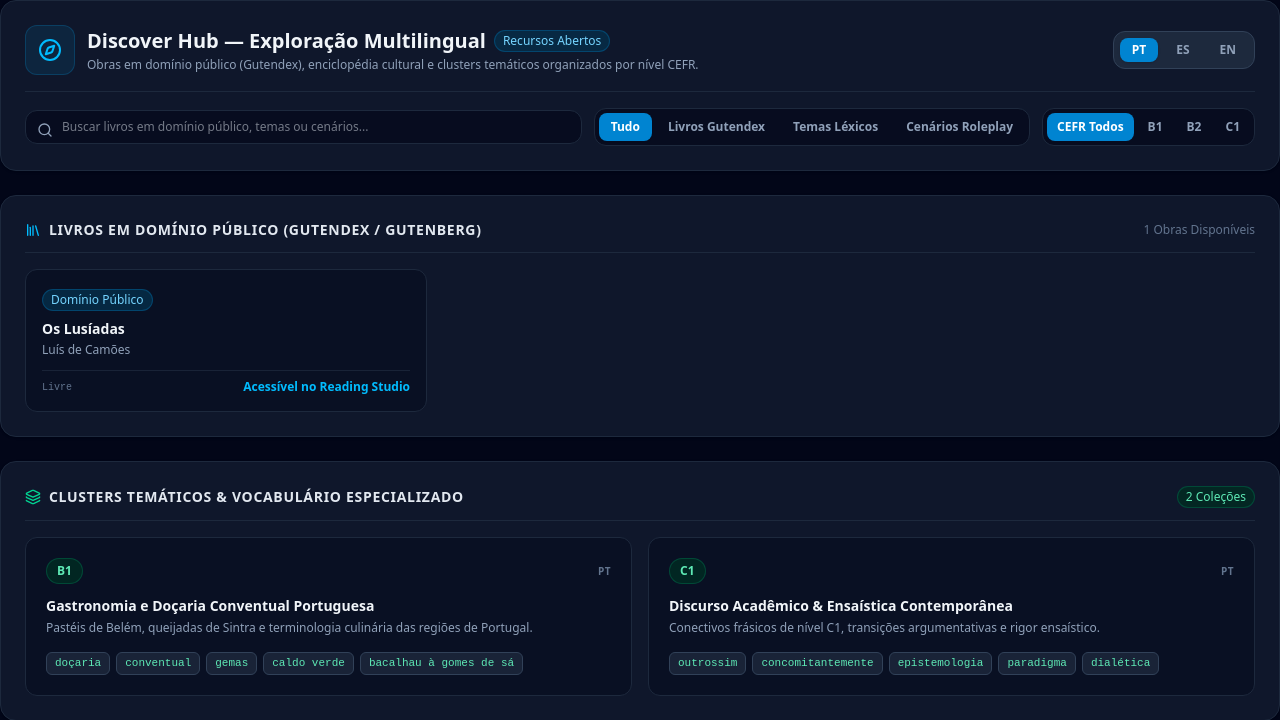
Test case: Step 8: Advanced Learning Features — Conversation & Discover Hub › 9. Discover Hub › renders books, thematic vocabulary clusters, and supports CEFR filtering
Check: the heading "Discover Hub — Exploração Multilingual" is shown, box 87,27 -> 486,55
Check: the heading "Gastronomia e Doçaria Conventual Portuguesa" is shown, box 46,596 -> 374,615
Note: Filter by C1
Click the button "C1" at (1233, 127), box 1216,113 -> 1250,141
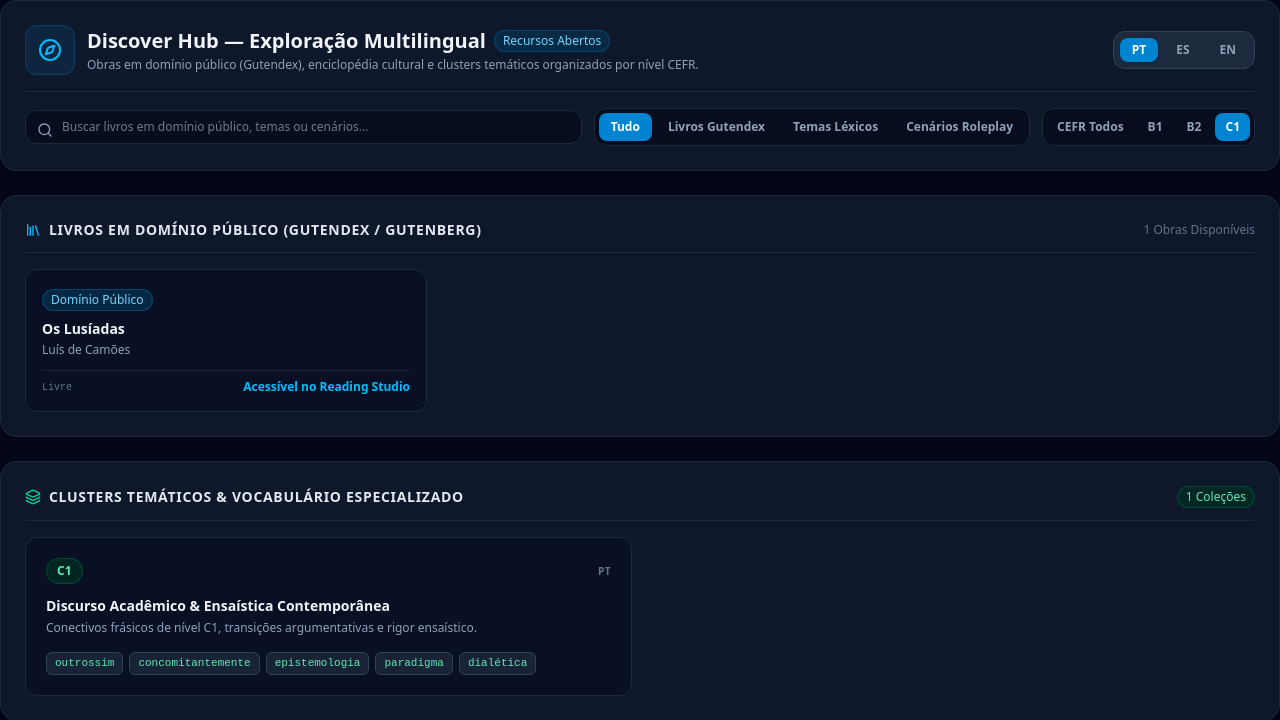
Check: the heading "Discurso Acadêmico & Ensaística Contemporânea" is shown, box 46,596 -> 390,615
Note: Switch language to ES
Click the button "ES" at (1183, 50), box 1164,38 -> 1202,62
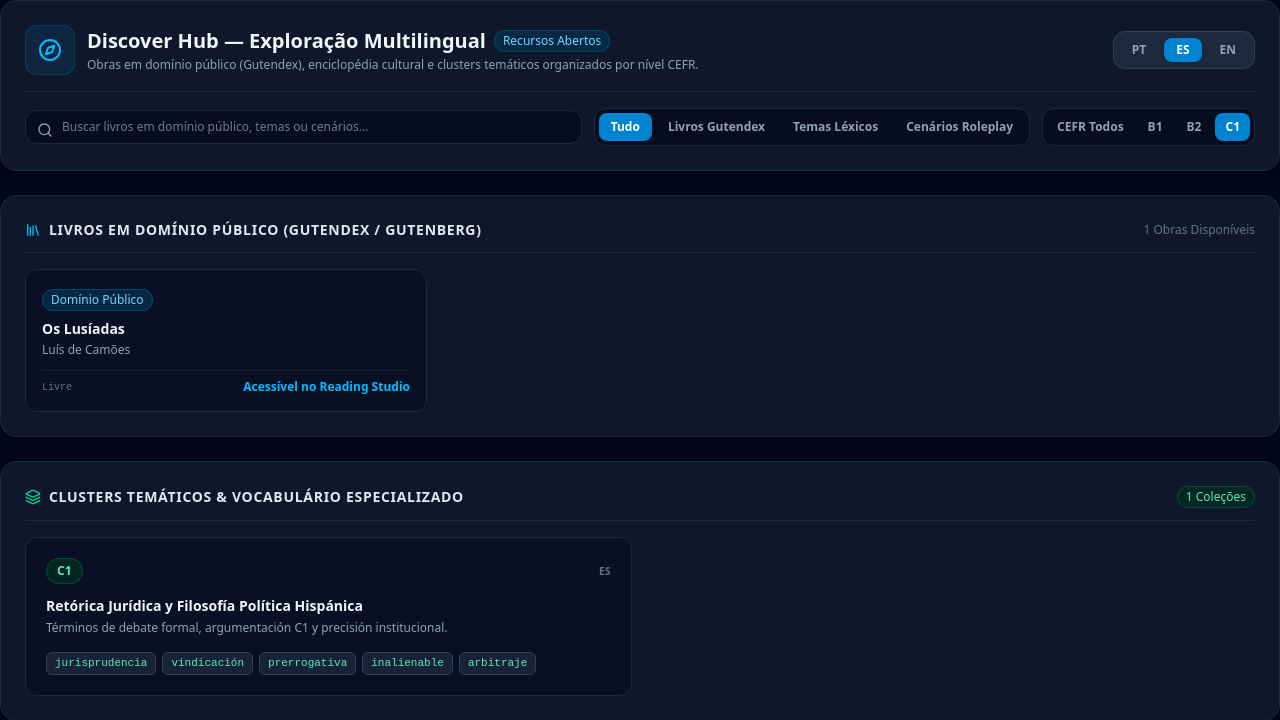
Check: the heading "Retórica Jurídica y Filosofía Política Hispánica" is shown, box 46,596 -> 363,615
